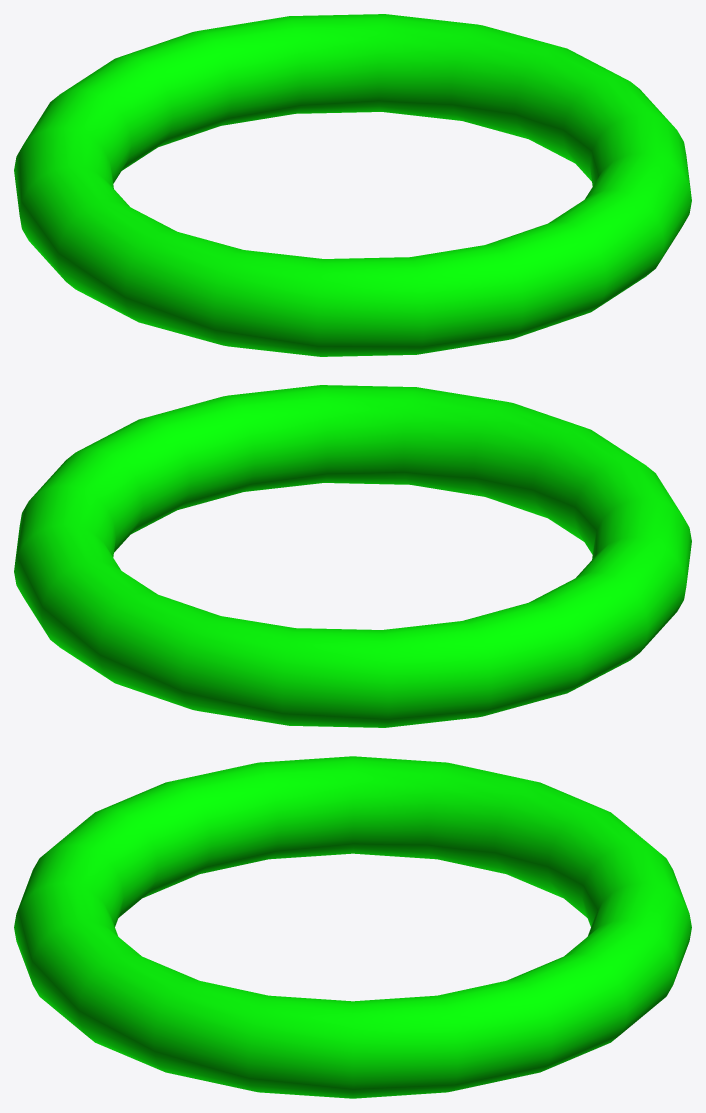
File: ring.obj
3 renders of one model, top to bottom at view 1: azimuth 30°, elevation 25°; view 2: azimuth 150°, elevation 25°; view 3: azimuth 270°, elevation 25°, orthographic.
Visible parts, largest first — view 1: pTorus2; view 2: pTorus2; view 3: pTorus2.
Boxes of the visible parts, left/top/right/bottom form: pTorus2: left=14, top=14, right=691, bottom=356; pTorus2: left=14, top=385, right=691, bottom=727; pTorus2: left=14, top=756, right=691, bottom=1098.
Size of the model in its own units: 12.44 by 1.8 by 12.44.
